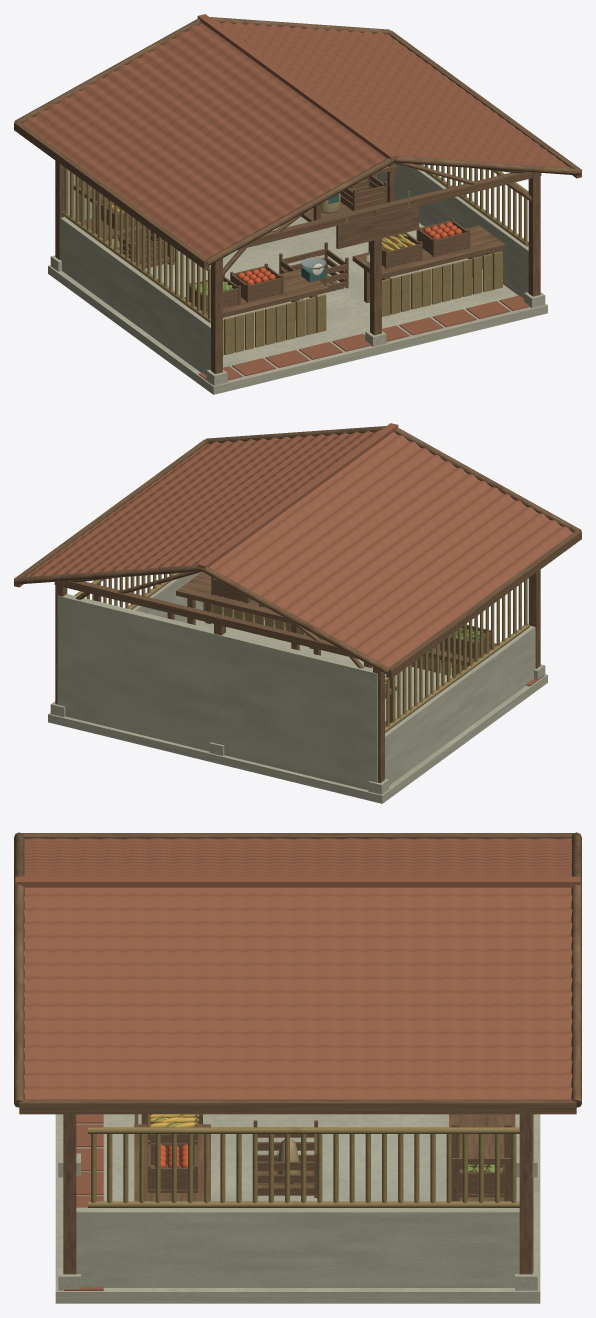
The model's file is market.glb.
The picture shows the model from 3 angles, top to bottom: view 1: azimuth 30°, elevation 25°; view 2: azimuth 150°, elevation 25°; view 3: azimuth 270°, elevation 25°; orthographic projection. The views are drawn at different scales.
Visible parts, largest first — view 1: roof_warm_fired_clay_roof_tiles, warm_concrete_market_slab, walls_hand_trowelled_lime_concrete, roof_warm_weathered_hardwood, frame_warm_weathered_hardwood, equipment_warm_weathered_Indonesian_bamboo, walls_warm_weathered_Indonesian_bamboo, equipment_warm_weathered_hardwood, floor_local_terracotta_brick, fresh_tomato_display_warm_weathered_hardwood (×2), empty_delivery_crate_warm_weathered_hardwood (×2), warehouse_shelves_warm_weathered_hardwood (+4 smaller); view 2: roof_warm_fired_clay_roof_tiles, walls_hand_trowelled_lime_concrete, roof_warm_weathered_hardwood, warm_concrete_market_slab, walls_warm_weathered_Indonesian_bamboo, frame_warm_weathered_hardwood, equipment_warm_weathered_hardwood, equipment_warm_weathered_Indonesian_bamboo, frame_hand_trowelled_lime_concrete; view 3: roof_warm_fired_clay_roof_tiles, walls_hand_trowelled_lime_concrete, warm_concrete_market_slab, roof_warm_weathered_hardwood, walls_warm_weathered_Indonesian_bamboo, frame_warm_weathered_hardwood, warehouse_shelves_warm_weathered_hardwood, order_crate_warm_weathered_hardwood, floor_local_terracotta_brick, equipment_warm_weathered_hardwood, fresh_tomato_display_warm_weathered_hardwood, frame_hand_trowelled_lime_concrete (+2 smaller).
Boxes of the visible parts, x1=… form: roof_warm_fired_clay_roof_tiles: x1=22, y1=14, x2=570, y2=258; warm_concrete_market_slab: x1=48, y1=216, x2=547, y2=394; walls_hand_trowelled_lime_concrete: x1=60, y1=163, x2=528, y2=375; roof_warm_weathered_hardwood: x1=14, y1=17, x2=581, y2=269; frame_warm_weathered_hardwood: x1=55, y1=160, x2=541, y2=373; equipment_warm_weathered_Indonesian_bamboo: x1=223, y1=251, x2=502, y2=355; walls_warm_weathered_Indonesian_bamboo: x1=62, y1=164, x2=528, y2=323; equipment_warm_weathered_hardwood: x1=183, y1=205, x2=505, y2=333; floor_local_terracotta_brick: x1=198, y1=295, x2=529, y2=383; fresh_tomato_display_warm_weathered_hardwood (×2): x1=230, y1=218, x2=470, y2=302; empty_delivery_crate_warm_weathered_hardwood (×2): x1=118, y1=175, x2=387, y2=263; warehouse_shelves_warm_weathered_hardwood: x1=73, y1=163, x2=396, y2=268; roof_warm_fired_clay_roof_tiles: x1=26, y1=423, x2=573, y2=667; walls_hand_trowelled_lime_concrete: x1=57, y1=572, x2=535, y2=789; roof_warm_weathered_hardwood: x1=14, y1=426, x2=581, y2=678; warm_concrete_market_slab: x1=48, y1=610, x2=547, y2=803; walls_warm_weathered_Indonesian_bamboo: x1=74, y1=573, x2=529, y2=732; frame_warm_weathered_hardwood: x1=54, y1=569, x2=540, y2=782; equipment_warm_weathered_hardwood: x1=176, y1=572, x2=496, y2=668; equipment_warm_weathered_Indonesian_bamboo: x1=203, y1=602, x2=463, y2=676; frame_hand_trowelled_lime_concrete: x1=50, y1=664, x2=545, y2=794; roof_warm_fired_clay_roof_tiles: x1=15, y1=838, x2=580, y2=1099; walls_hand_trowelled_lime_concrete: x1=76, y1=1114, x2=533, y2=1287; warm_concrete_market_slab: x1=55, y1=1114, x2=540, y2=1303; roof_warm_weathered_hardwood: x1=14, y1=832, x2=581, y2=1114; walls_warm_weathered_Indonesian_bamboo: x1=88, y1=1127, x2=519, y2=1207; frame_warm_weathered_hardwood: x1=63, y1=1114, x2=532, y2=1274; warehouse_shelves_warm_weathered_hardwood: x1=449, y1=1114, x2=515, y2=1201; order_crate_warm_weathered_hardwood: x1=253, y1=1120, x2=317, y2=1197; floor_local_terracotta_brick: x1=64, y1=1114, x2=103, y2=1290; equipment_warm_weathered_hardwood: x1=134, y1=1114, x2=210, y2=1201; fresh_tomato_display_warm_weathered_hardwood: x1=147, y1=1140, x2=197, y2=1192; frame_hand_trowelled_lime_concrete: x1=58, y1=1153, x2=537, y2=1290.
Size of the model in its own units: 7.91 by 4.16 by 7.03.
Materials: 16 (3 with a texture image).
